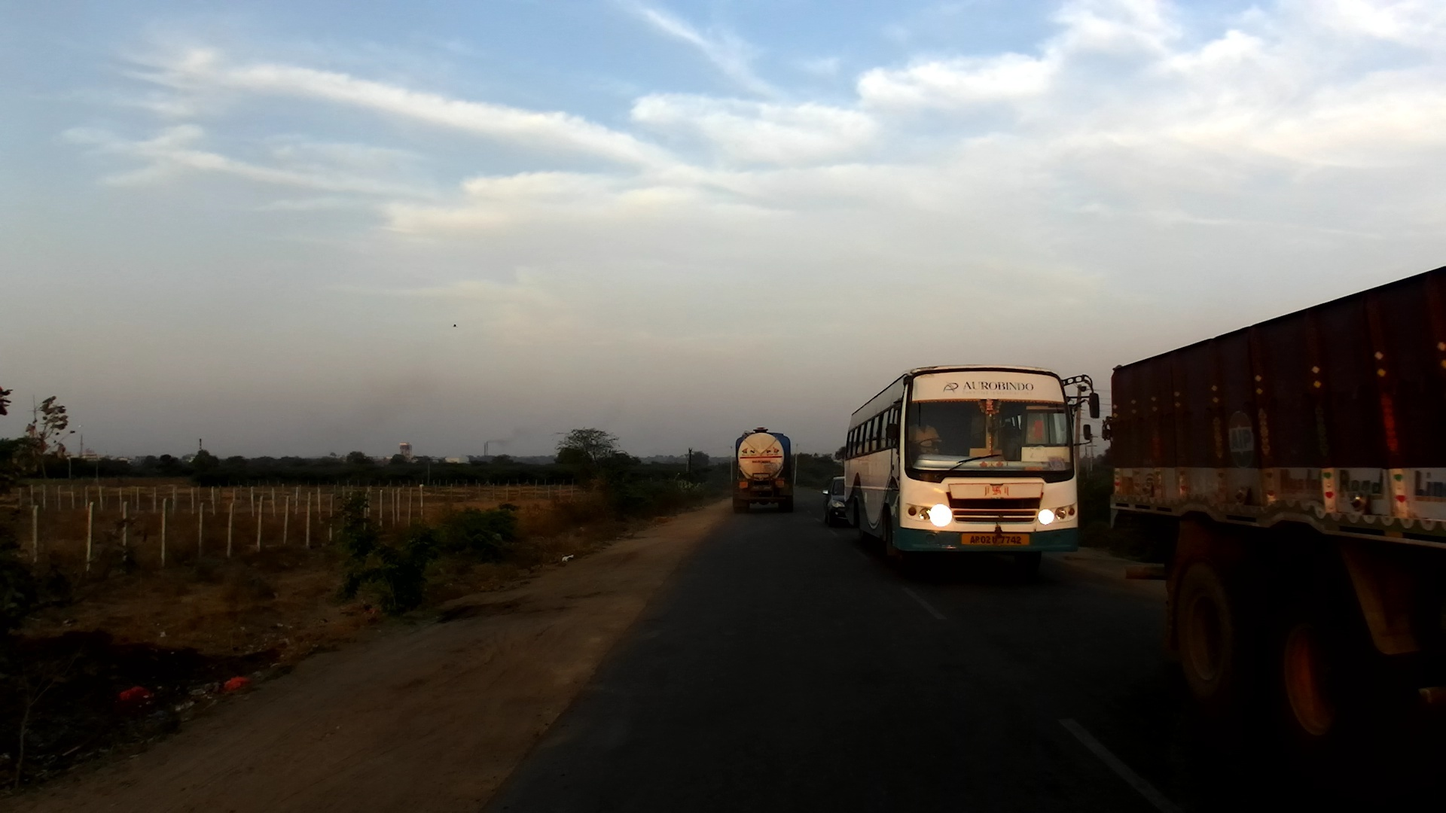bus: (842, 363, 1100, 584)
car: (824, 474, 855, 526)
truck: (1101, 268, 1446, 813), (732, 430, 796, 520)
